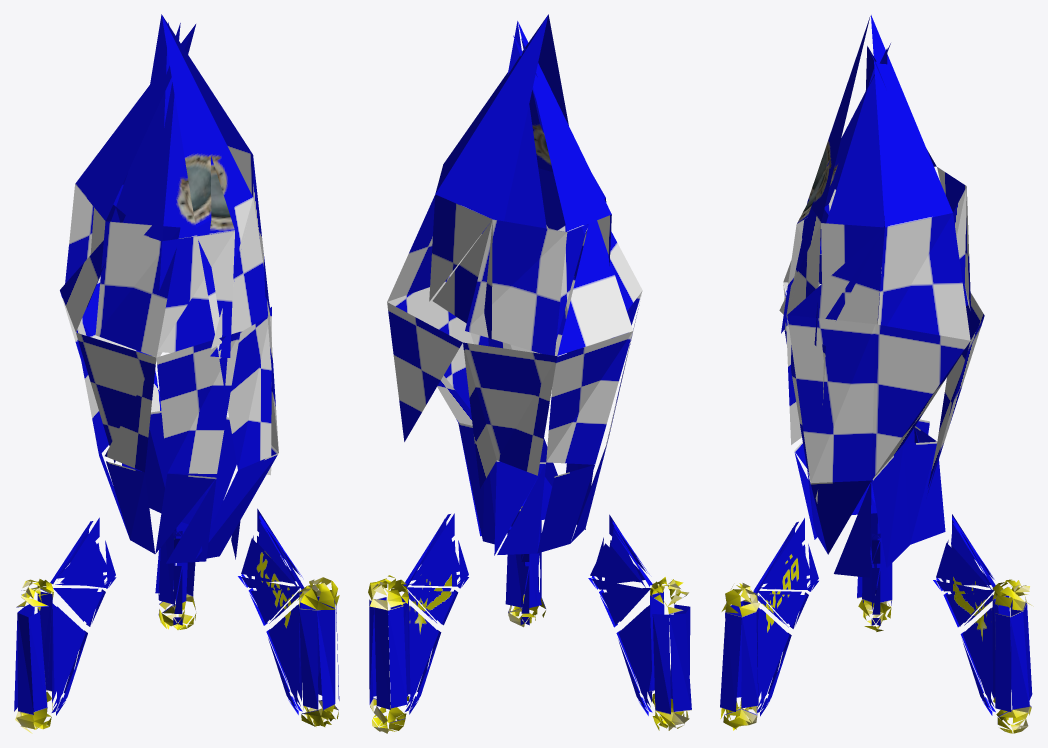
File: rocket2.obj
3 renders of one model, left to right at view 1: azimuth 30°, elevation 25°; view 2: azimuth 150°, elevation 25°; view 3: azimuth 270°, elevation 25°, orthographic. The views are drawn at different scales.
Parts seen in each view (by area): view 1: Rocket, wing02, wing01, reactor01, reactor02, reactor03, wing03; view 2: Rocket, reactor03, wing03, wing01, reactor01, reactor02, wing02; view 3: Rocket, wing02, wing03, reactor03, reactor02, reactor01, wing01.
Boxes of the visible parts, left/top/right/bottom form: Rocket: left=60, top=14, right=278, bottom=563; wing02: left=238, top=508, right=304, bottom=714; wing01: left=50, top=517, right=116, bottom=715; reactor01: left=14, top=579, right=54, bottom=733; reactor02: left=297, top=577, right=339, bottom=726; reactor03: left=155, top=522, right=196, bottom=629; wing03: left=173, top=531, right=182, bottom=625; Rocket: left=387, top=14, right=642, bottom=555; reactor03: left=368, top=575, right=410, bottom=733; wing03: left=403, top=513, right=468, bottom=714; wing01: left=588, top=514, right=652, bottom=715; reactor01: left=649, top=577, right=691, bottom=730; reactor02: left=505, top=506, right=545, bottom=627; wing02: left=520, top=554, right=529, bottom=625; Rocket: left=779, top=15, right=984, bottom=577; wing02: left=753, top=518, right=818, bottom=716; wing03: left=933, top=514, right=995, bottom=715; reactor03: left=992, top=579, right=1033, bottom=733; reactor02: left=720, top=583, right=760, bottom=730; reactor01: left=857, top=513, right=892, bottom=631; wing01: left=871, top=533, right=880, bottom=625.
Bounding box in the file's own units: 170 × 429 × 180.
Materials: 1 (1 with a texture image).
